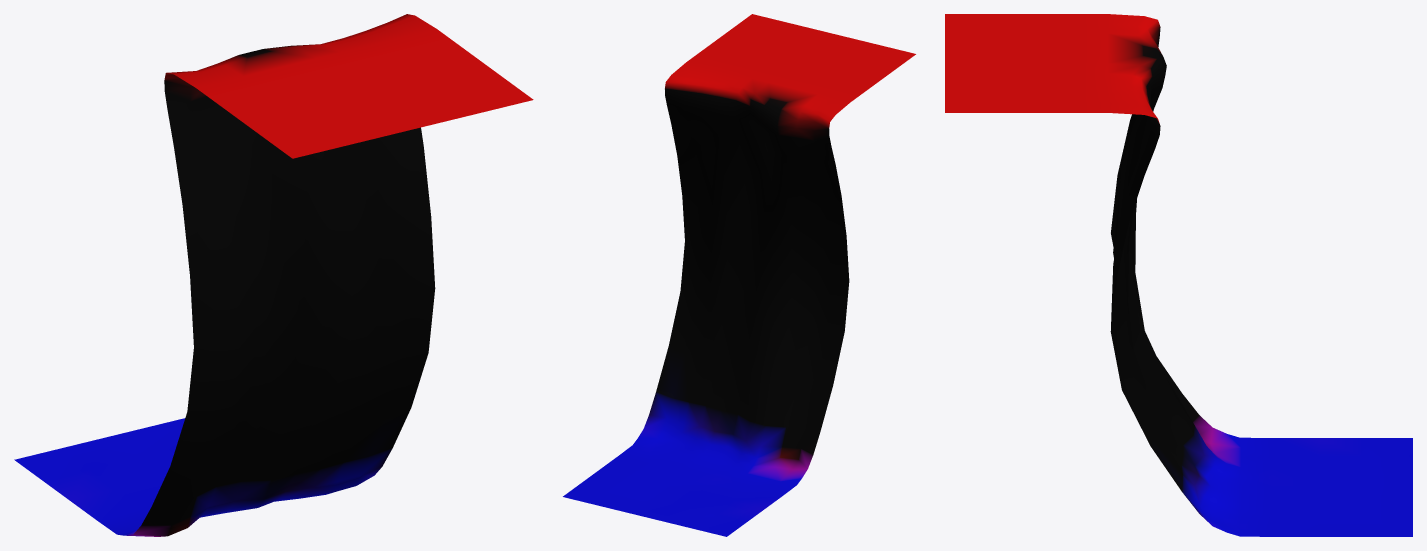
Rendered from GroundCliff00A 2M for Water Foreground.fbx.
3 views of the same model, side by side, from view 1: azimuth 30°, elevation 25°; view 2: azimuth 150°, elevation 25°; view 3: azimuth 270°, elevation 25° (orthographic). The views are drawn at different scales.
Parts seen in each view (by area): view 1: GroundCliff00A 2M for Water Foreground; view 2: GroundCliff00A 2M for Water Foreground; view 3: GroundCliff00A 2M for Water Foreground.
Boxes of the visible parts, x1=… form: GroundCliff00A 2M for Water Foreground: x1=14, y1=14, x2=533, y2=536; GroundCliff00A 2M for Water Foreground: x1=563, y1=14, x2=915, y2=536; GroundCliff00A 2M for Water Foreground: x1=945, y1=14, x2=1412, y2=536.
Bounding box in the file's own units: 1 × 2 × 2.
